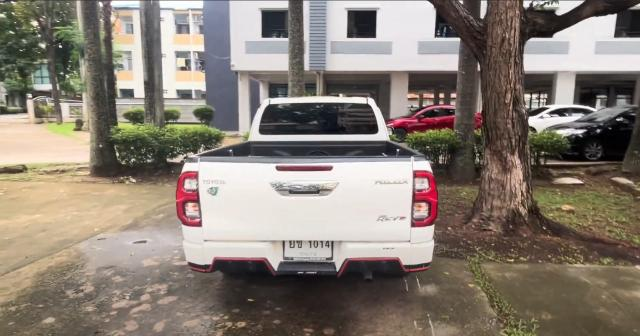pickup-truck: (173, 93, 440, 287)
